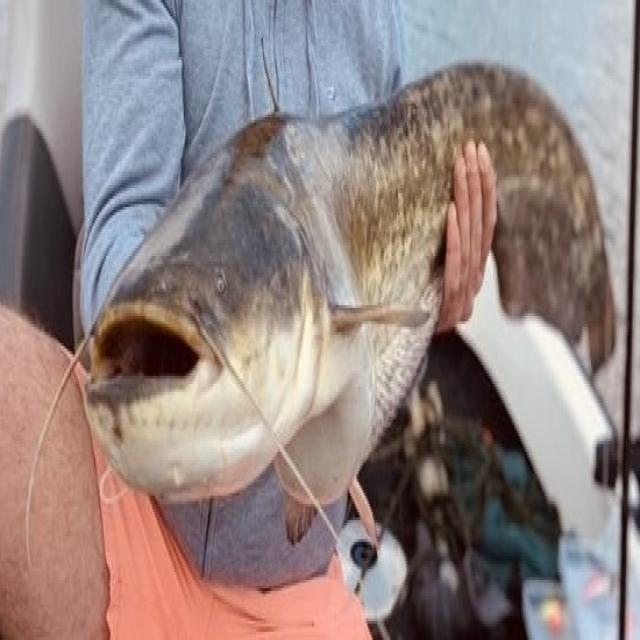Catfish: (41, 77, 634, 535)
